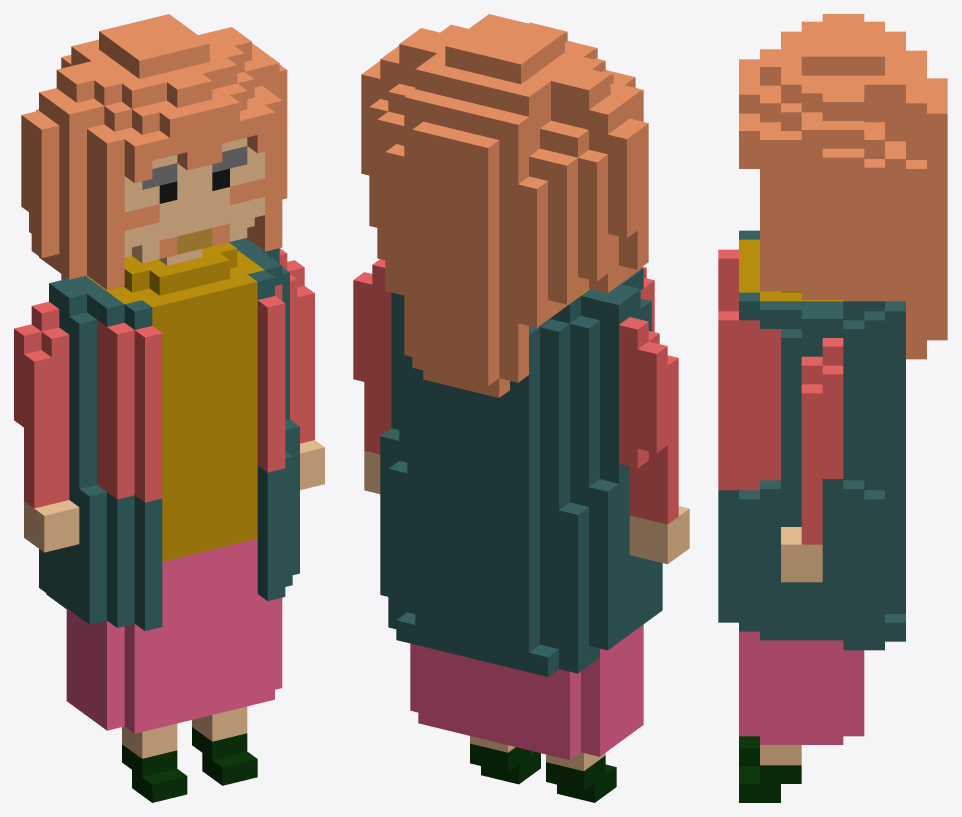
The model's file is Granny-2.obj.
3 views of the same model, side by side, from view 1: azimuth 30°, elevation 25°; view 2: azimuth 150°, elevation 25°; view 3: azimuth 270°, elevation 25° (orthographic). The views are drawn at different scales.
Size of the model in its own units: 1.6 by 3.9 by 1.1.
1 material, 1 textured.
